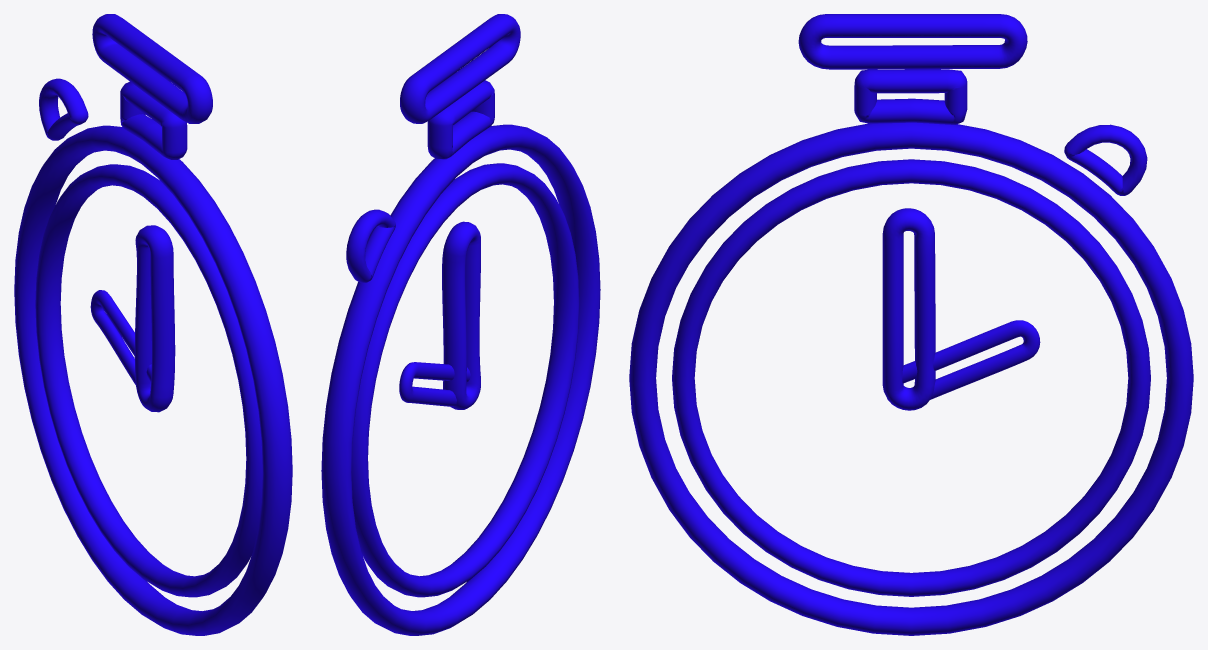
Rendered from Neon chrono.fbx.
The picture shows the model from 3 angles, left to right: view 1: azimuth 30°, elevation 25°; view 2: azimuth 150°, elevation 25°; view 3: azimuth 270°, elevation 25°; orthographic projection. The views are drawn at different scales.
Parts seen in each view (by area): view 1: BézierCurve.008; view 2: BézierCurve.008; view 3: BézierCurve.008.
Boxes of the visible parts, bbox=[...] form: BézierCurve.008: bbox=[14, 14, 292, 635]; BézierCurve.008: bbox=[321, 14, 600, 635]; BézierCurve.008: bbox=[629, 14, 1193, 635].
Size of the model in its own units: 12.06 by 240 by 199.
